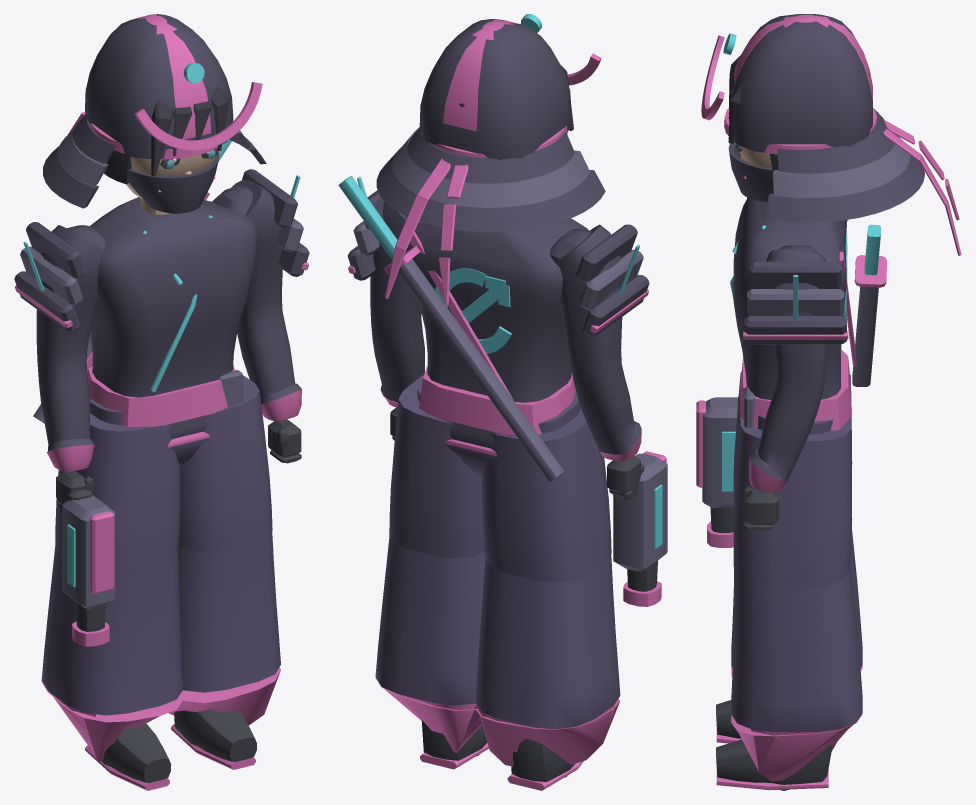
The model's file is jo_samourai.glb.
The picture shows the model from 3 angles, left to right: view 1: azimuth 30°, elevation 25°; view 2: azimuth 150°, elevation 25°; view 3: azimuth 270°, elevation 25°; orthographic projection. The views are drawn at different scales.
Parts seen in each view (by area): view 1: torso, shin_r, coiffe, shin_l, leg_r, leg_l, arm_r, arm_l, gun, epaule_r, jambe_l, jambe_r (+6 smaller); view 2: coiffe, shin_r, torso, leg_r, shin_l, leg_l, arm_r, arm_l, dos, gun, epaule_r, jambe_r (+8 smaller); view 3: coiffe, shin_l, leg_l, torso, arm_l, epaule_l, gun, jambe_l, dos, visage, coiffe_glow, gun_glow (+8 smaller).
Boxes of the visible parts, box(x1,y1,x2,y2) form: torso: box(87, 197, 258, 466); shin_r: box(41, 547, 182, 762); coiffe: box(43, 14, 266, 208); shin_l: box(168, 530, 280, 725); leg_r: box(55, 398, 180, 575); leg_l: box(178, 370, 272, 554); arm_r: box(36, 225, 105, 507); arm_l: box(212, 180, 301, 463); gun: box(60, 489, 115, 646); epaule_r: box(14, 222, 86, 331); jambe_l: box(171, 709, 256, 769); jambe_r: box(85, 723, 171, 790); coiffe: box(376, 19, 605, 231); shin_r: box(476, 554, 620, 766); torso: box(406, 218, 588, 477); leg_r: box(481, 392, 611, 582); shin_l: box(375, 536, 485, 752); leg_l: box(389, 375, 484, 558); arm_r: box(550, 224, 641, 497); arm_l: box(370, 202, 424, 440); dos: box(384, 232, 563, 481); gun: box(612, 451, 667, 606); epaule_r: box(576, 224, 649, 336); jambe_r: box(507, 738, 583, 790); coiffe: box(724, 14, 924, 222); shin_l: box(731, 562, 862, 781); leg_l: box(733, 414, 852, 588); torso: box(730, 198, 850, 430); arm_l: box(742, 245, 826, 530); epaule_l: box(743, 261, 848, 344); gun: box(696, 396, 738, 547); jambe_l: box(716, 739, 832, 790); dos: box(839, 251, 886, 386); visage: box(728, 141, 773, 201); coiffe_glow: box(701, 33, 736, 120); gun_glow: box(721, 431, 735, 491).
Bounding box in the file's own units: 0.4934 × 1.25 × 0.4035.
